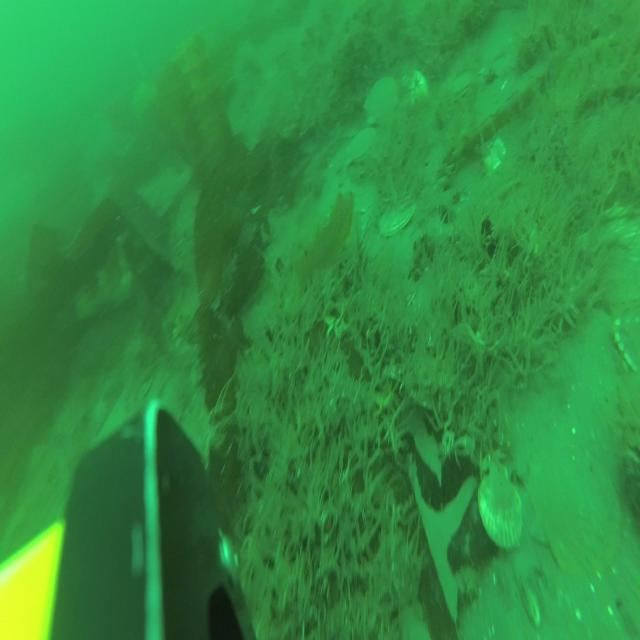scallop: (476, 465, 521, 548), (378, 189, 420, 232), (365, 73, 399, 121), (480, 129, 506, 172), (347, 131, 377, 163), (452, 68, 478, 100), (409, 69, 429, 108)
